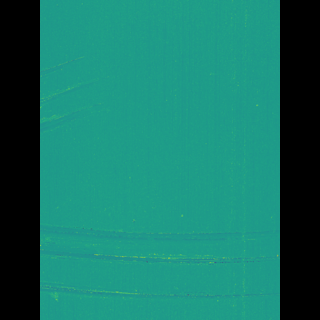Loch: (69, 217, 251, 308), (69, 50, 131, 139)
